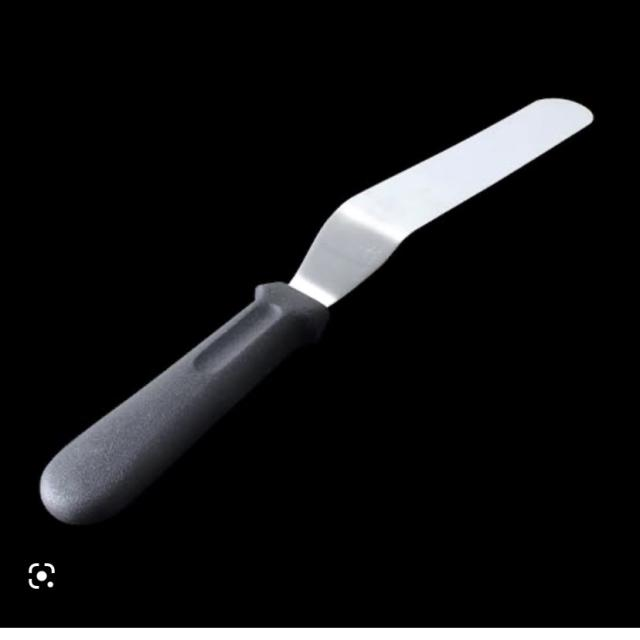knife: (6, 49, 640, 570)
